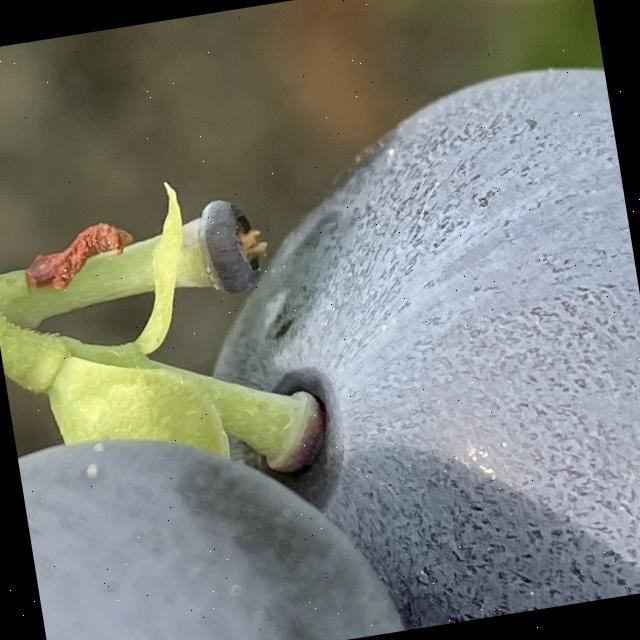Blueberries: (164, 50, 640, 640)
